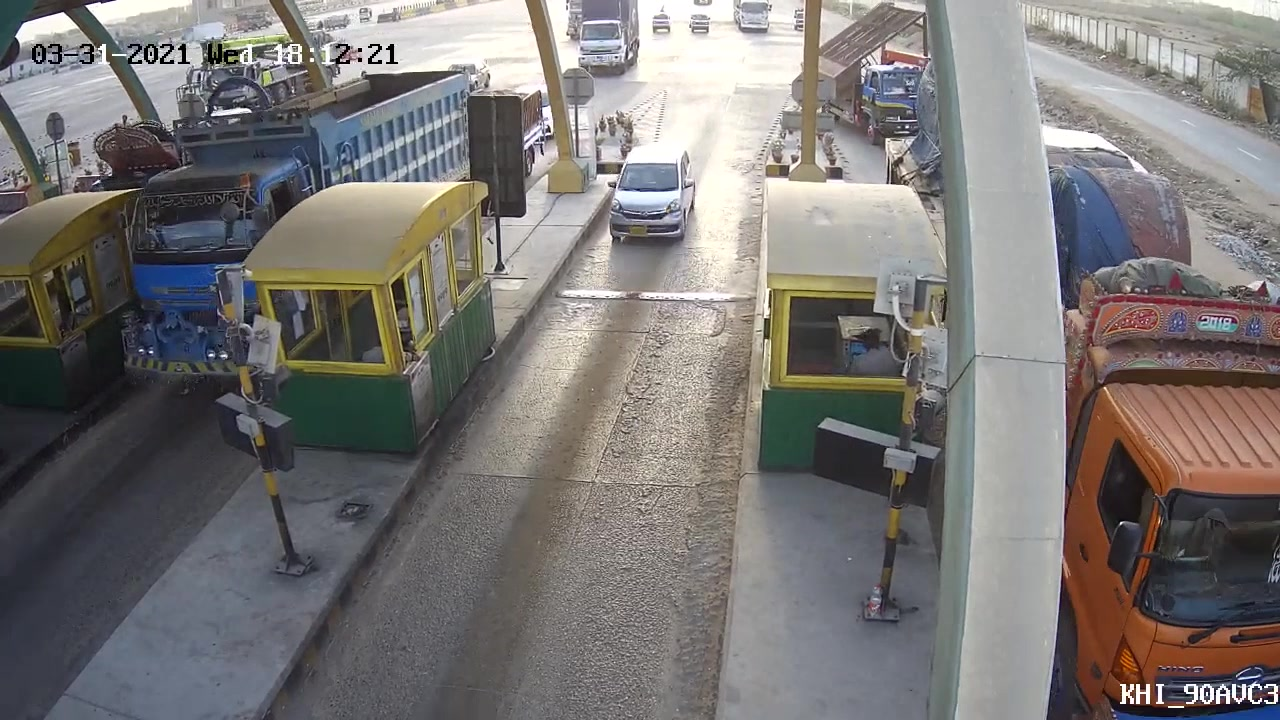F1: (592, 137, 702, 249)
